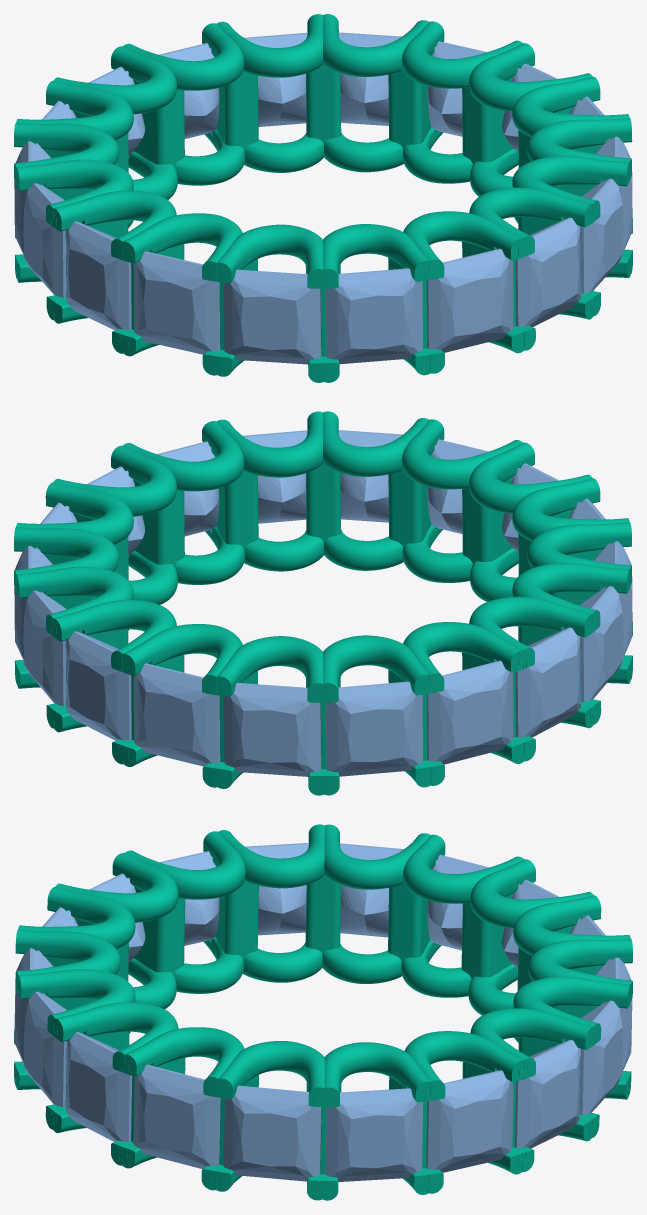
3 views of the same model, one above another, from view 1: azimuth 30°, elevation 25°; view 2: azimuth 150°, elevation 25°; view 3: azimuth 270°, elevation 25° (orthographic).
Visible parts, largest first — view 1: PR 4MM(base).3dm, Diamond_Princess (×16); view 2: PR 4MM(base).3dm, Diamond_Princess (×16); view 3: PR 4MM(base).3dm, Diamond_Princess (×16).
Part boxes in pixels (x1,y1,x2,y2): PR 4MM(base).3dm: (14,14,632,382); Diamond_Princess (×16): (14,32,632,364); PR 4MM(base).3dm: (14,411,632,795); Diamond_Princess (×16): (14,430,632,776); PR 4MM(base).3dm: (14,824,632,1200); Diamond_Princess (×16): (14,843,632,1181).
Size of the model in its own units: 2.8 by 0.6345 by 2.78.
